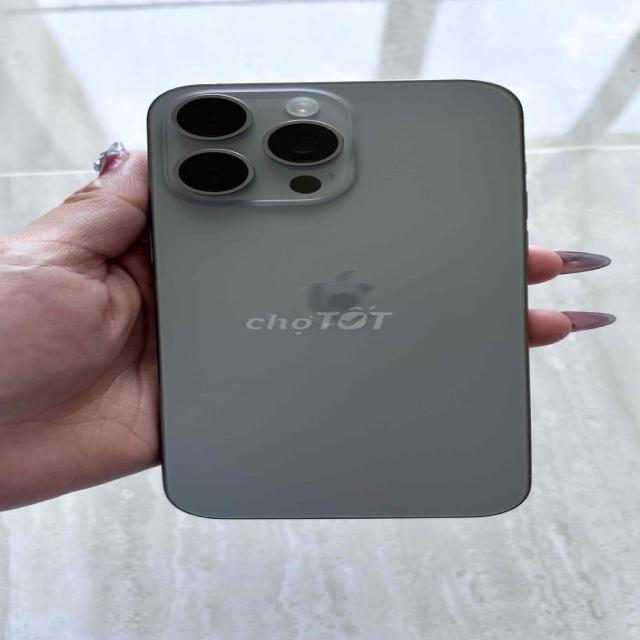gen_15: (127, 73, 532, 526)
